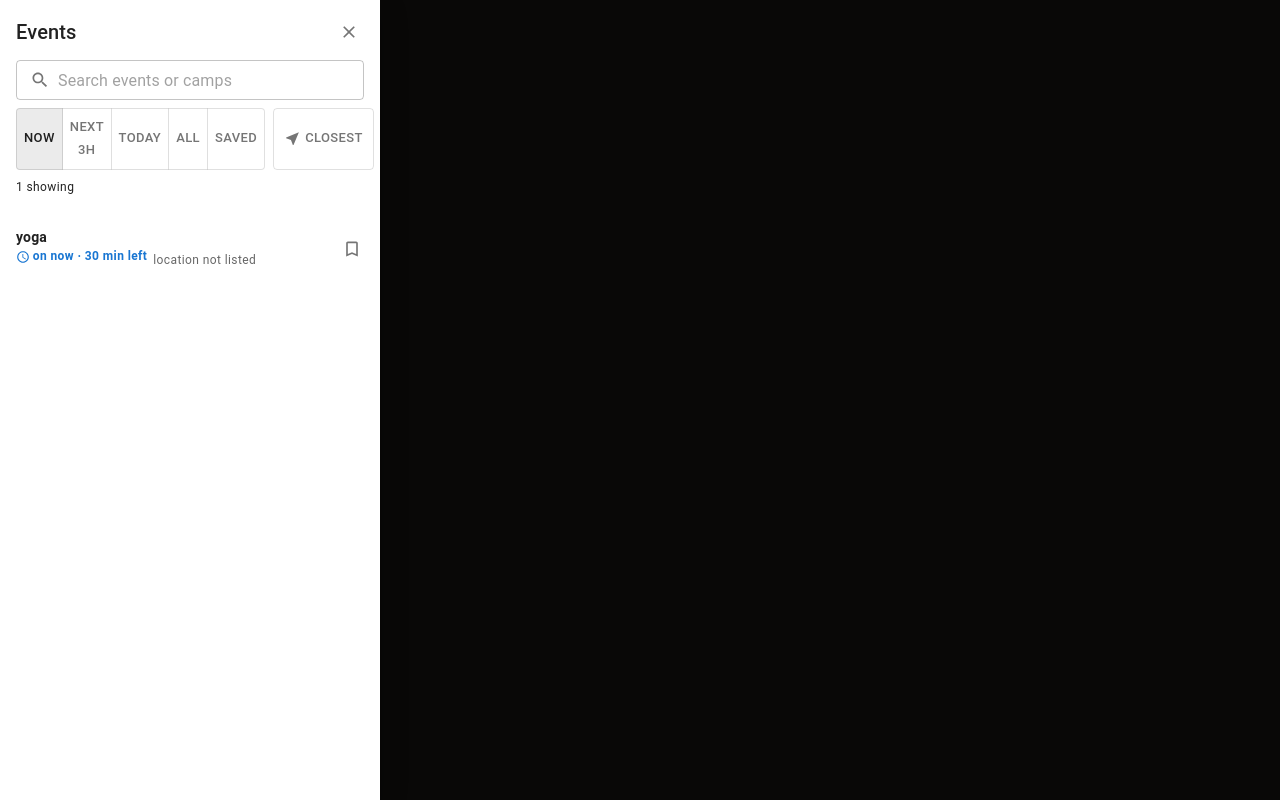
Test: EventsPanel · Saved window (#60) › shows an explicit empty state rather than "nothing scheduled" when nothing is saved
The image size is (1280, 800).
Click the button "Saved" at point(236, 139), box left=207, top=108, right=265, bottom=170
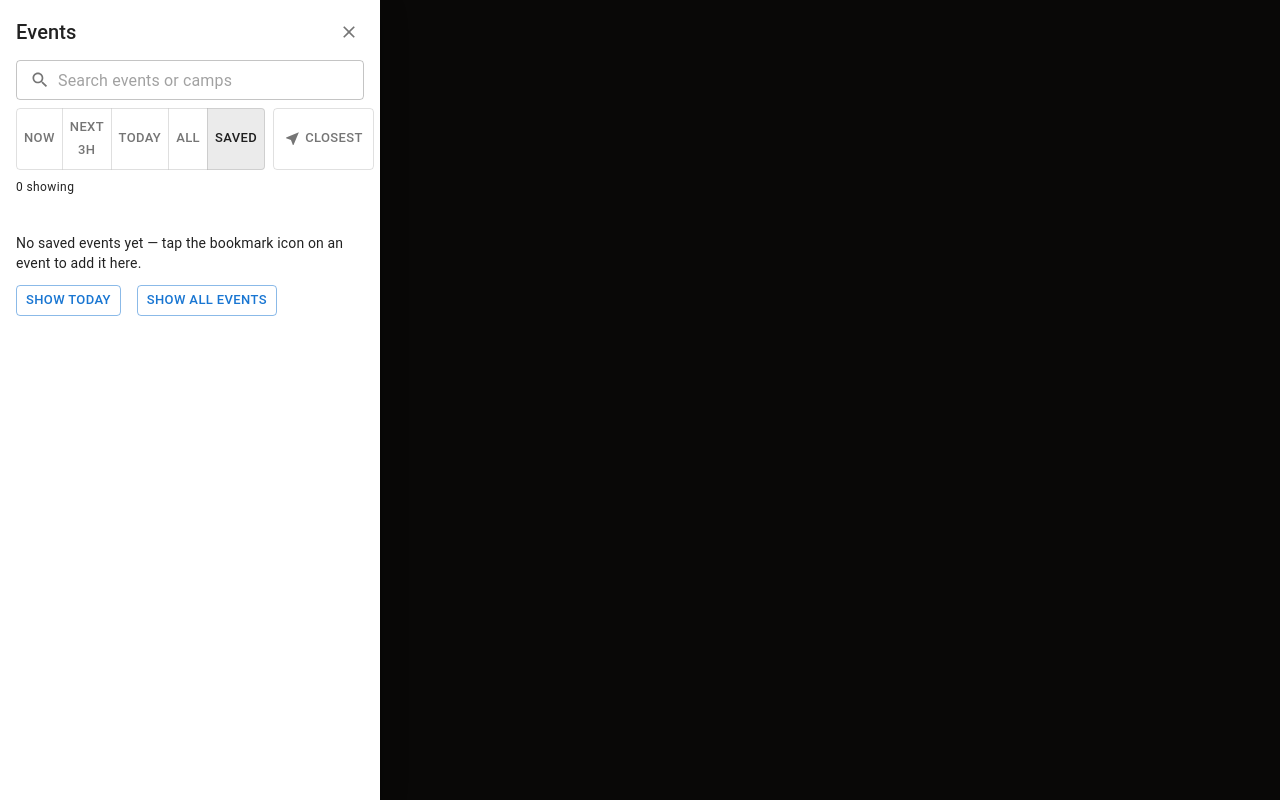
Expected: the text "No saved events yet" is shown, left=16, top=235, right=343, bottom=271
